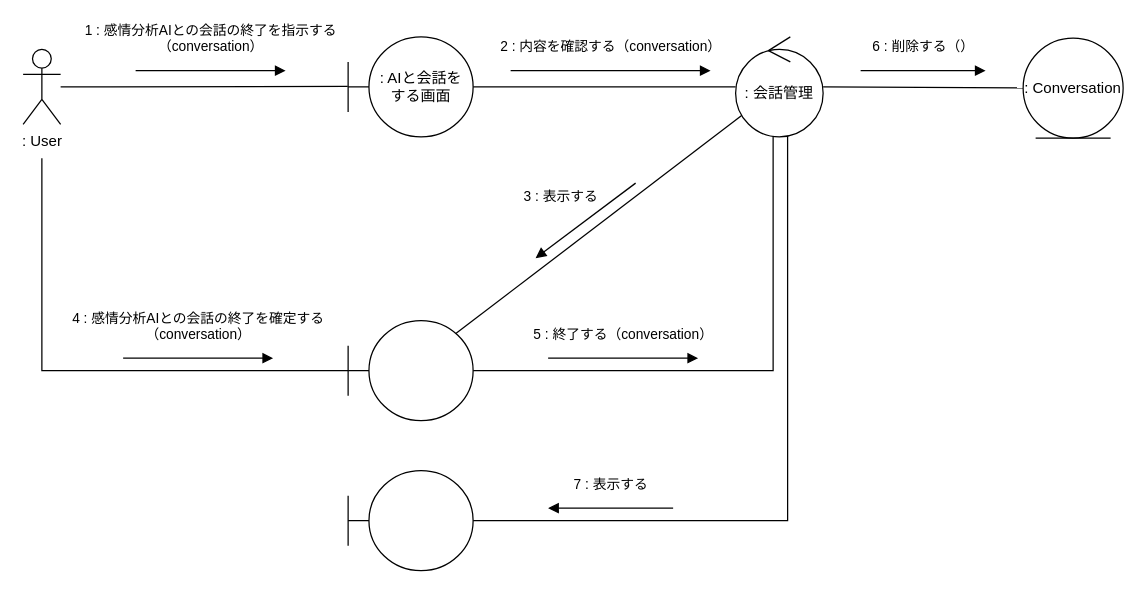
The diagram is 1145 pixels wide and 593 high, and some of its shapes have lost their labels. Here are the shapes that lost their labels. From the top down, the centre of each, then its label:
(410,370): : 操作の確認を行う画面
(410,520): : メイン画面
